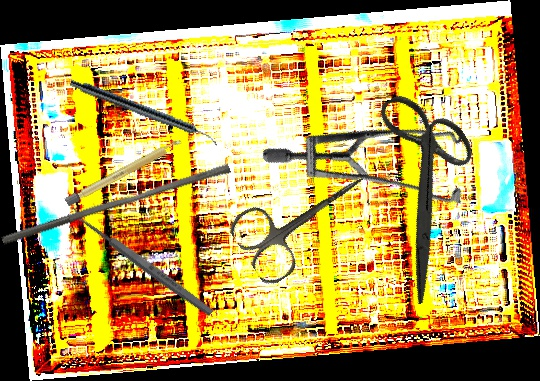Handpiece: (67, 76, 222, 148)
Iris Scissors: (318, 76, 529, 305), (224, 145, 388, 290)
Pusher: (0, 154, 232, 255)
Scalpel Handle: (63, 136, 186, 208)
Speculum: (259, 42, 497, 269)
Surgical Spoon: (67, 206, 215, 318)
